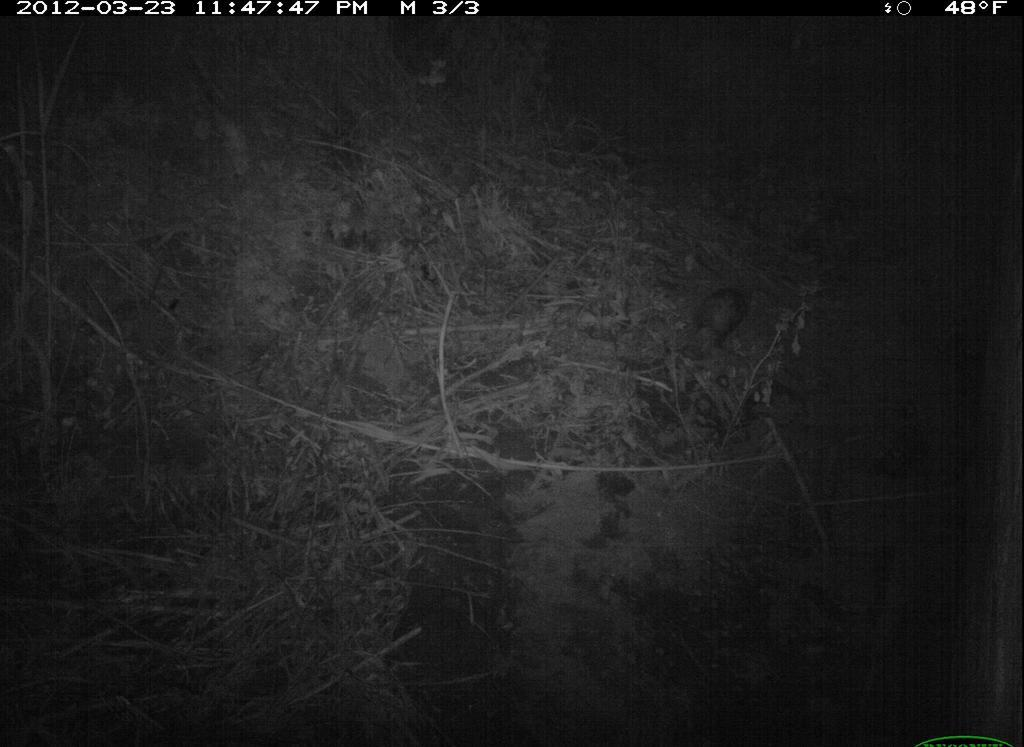opossum: (668, 275, 770, 374)
